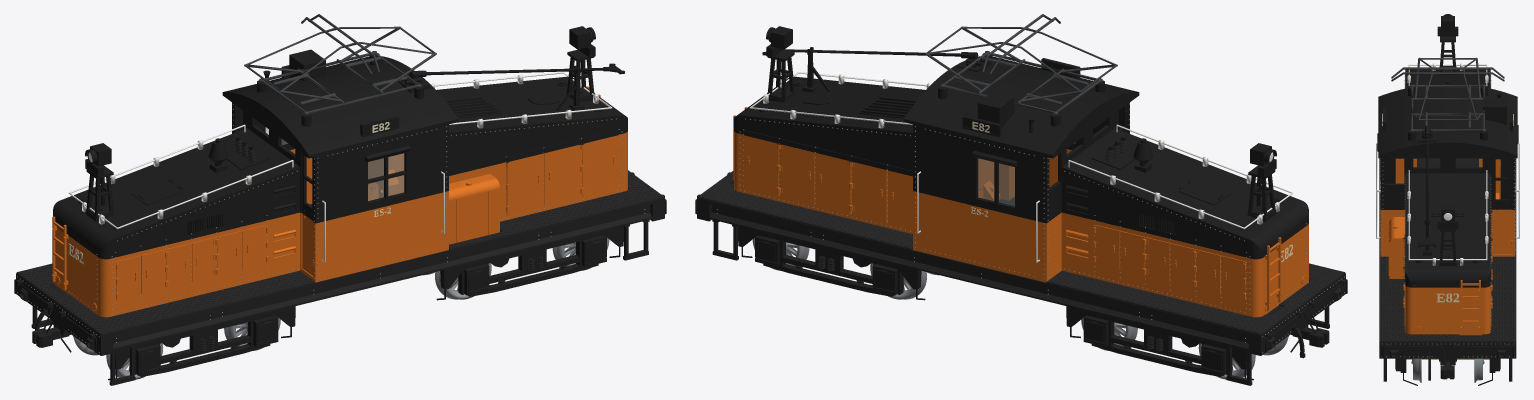
File: E82_ORANGE_BLACK.glb
3 views of the same model, side by side, from view 1: azimuth 30°, elevation 25°; view 2: azimuth 150°, elevation 25°; view 3: azimuth 270°, elevation 25° (orthographic). The views are drawn at different scales.
Parts seen in each view (by area): view 1: high, low, frame, roof, trucks, walk, panto, lights, handrails, wheels, wire, glass (+1 smaller); view 2: high, low, frame, roof, trucks, walk, lights, panto, handrails, wheels, glass, wire (+1 smaller); view 3: high, roof, low, walk, frame, panto, lights, handrails, wire, rivets, wheels, trucks (+1 smaller).
Part boxes in pixels (<box>): high: <box>53,76,627,259</box>; low: <box>52,86,627,317</box>; frame: <box>16,172,664,385</box>; roof: <box>222,49,458,158</box>; trucks: <box>115,226,623,376</box>; walk: <box>16,170,664,335</box>; panto: <box>244,14,436,115</box>; lights: <box>85,26,595,217</box>; handrails: <box>68,72,612,262</box>; wheels: <box>73,238,609,379</box>; wire: <box>14,63,666,380</box>; glass: <box>265,127,404,200</box>; high: <box>734,76,1308,259</box>; low: <box>733,107,1308,317</box>; frame: <box>697,172,1345,385</box>; roof: <box>903,52,1139,158</box>; trucks: <box>738,226,1246,376</box>; walk: <box>697,171,1345,335</box>; lights: <box>766,26,1276,217</box>; panto: <box>925,14,1117,115</box>; handrails: <box>749,72,1293,262</box>; wheels: <box>752,238,1288,379</box>; glass: <box>978,143,1074,205</box>; wire: <box>695,49,1347,380</box>; high: <box>1377,66,1518,287</box>; roof: <box>1378,84,1517,158</box>; low: <box>1380,158,1515,335</box>; walk: <box>1380,159,1515,341</box>; frame: <box>1379,158,1516,381</box>; panto: <box>1391,57,1504,132</box>; lights: <box>1423,14,1458,262</box>; handrails: <box>1376,63,1519,265</box>; wire: <box>1382,134,1513,385</box>; rivets: <box>1380,75,1515,357</box>; wheels: <box>1411,358,1484,382</box>; trucks: <box>1395,358,1500,372</box>.
Size of the model in its own units: 0.4353 by 0.1886 by 0.1104.
